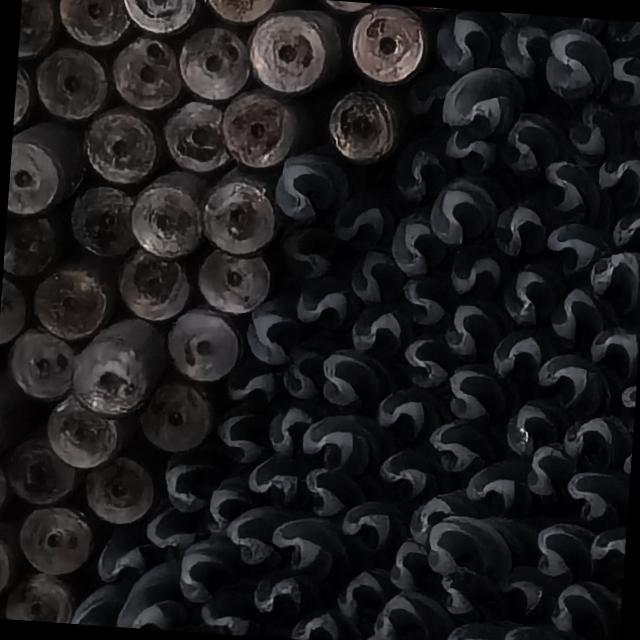tool: (70, 312, 170, 418), (245, 7, 345, 98), (6, 119, 86, 221), (216, 88, 304, 173), (128, 167, 206, 257), (344, 2, 428, 82), (32, 262, 112, 344), (75, 444, 159, 522), (129, 378, 215, 453), (80, 104, 159, 184), (42, 390, 121, 469), (0, 429, 78, 509), (2, 322, 78, 402), (165, 303, 242, 381), (31, 46, 109, 122), (178, 24, 254, 100), (111, 32, 186, 108), (116, 244, 191, 320), (204, 179, 278, 254), (16, 504, 92, 577), (160, 100, 234, 174), (66, 180, 134, 256), (330, 88, 397, 163), (196, 245, 268, 314), (4, 571, 74, 623), (2, 213, 56, 274), (55, 0, 126, 46), (123, 0, 195, 35), (0, 266, 28, 349), (18, 0, 57, 58), (200, 0, 284, 24), (12, 60, 36, 134), (0, 513, 12, 605), (0, 441, 11, 523)
tool_b: (298, 408, 399, 476), (272, 516, 362, 586), (272, 150, 350, 227), (444, 64, 528, 132), (325, 178, 406, 248), (429, 175, 502, 248), (435, 7, 514, 74), (499, 111, 573, 182), (535, 351, 614, 417), (566, 98, 638, 170), (387, 123, 451, 203), (544, 29, 612, 104), (376, 438, 450, 504), (428, 414, 508, 474), (538, 158, 612, 222), (544, 578, 622, 638), (546, 283, 618, 346), (463, 455, 536, 517), (280, 272, 355, 330), (175, 535, 238, 604), (164, 444, 226, 514), (374, 384, 446, 444), (246, 454, 320, 512), (444, 298, 509, 364), (244, 297, 304, 368), (336, 496, 408, 555), (504, 399, 572, 460), (294, 462, 367, 518), (500, 260, 560, 328), (446, 358, 512, 419), (373, 589, 451, 640), (387, 210, 449, 274), (530, 522, 596, 582), (226, 504, 287, 568), (561, 470, 628, 528), (560, 412, 630, 467), (276, 217, 338, 279), (326, 562, 386, 626), (544, 218, 608, 276), (344, 304, 412, 358), (439, 566, 508, 619), (448, 237, 506, 300), (214, 402, 272, 464), (587, 244, 640, 311), (198, 580, 262, 634), (250, 564, 316, 616), (348, 248, 407, 306), (496, 17, 550, 79), (496, 560, 550, 621), (526, 440, 578, 503), (402, 62, 454, 124), (491, 201, 547, 258), (400, 270, 456, 326), (488, 332, 544, 388), (586, 320, 640, 378), (382, 538, 437, 590), (399, 333, 449, 388), (597, 146, 640, 208), (264, 403, 310, 458), (406, 494, 456, 544), (221, 356, 274, 403), (284, 607, 358, 640), (588, 526, 626, 588), (575, 17, 640, 48), (606, 54, 640, 110), (445, 619, 506, 640), (501, 625, 568, 640), (619, 373, 637, 410)
